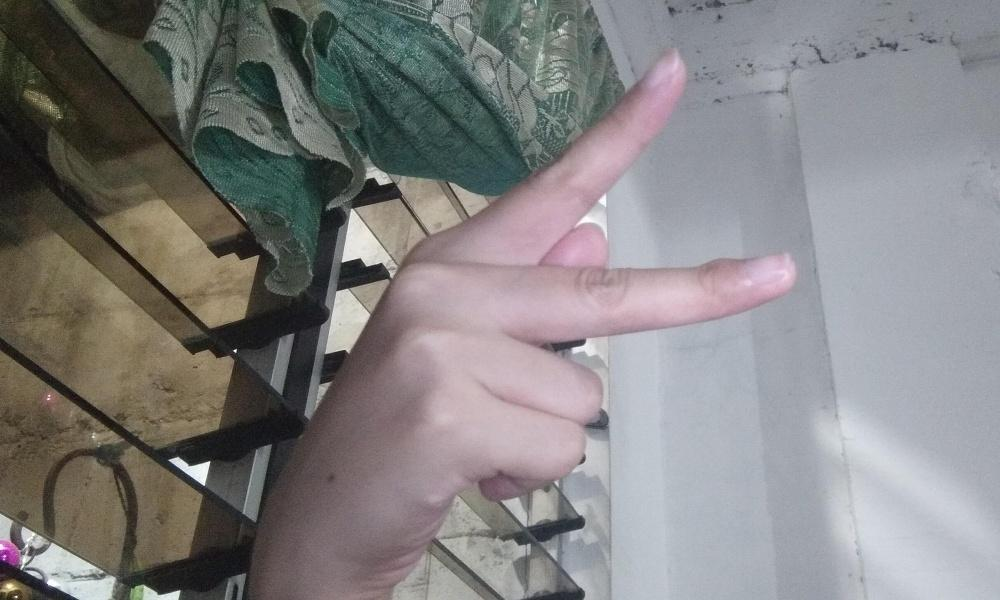k: (264, 44, 799, 580)
